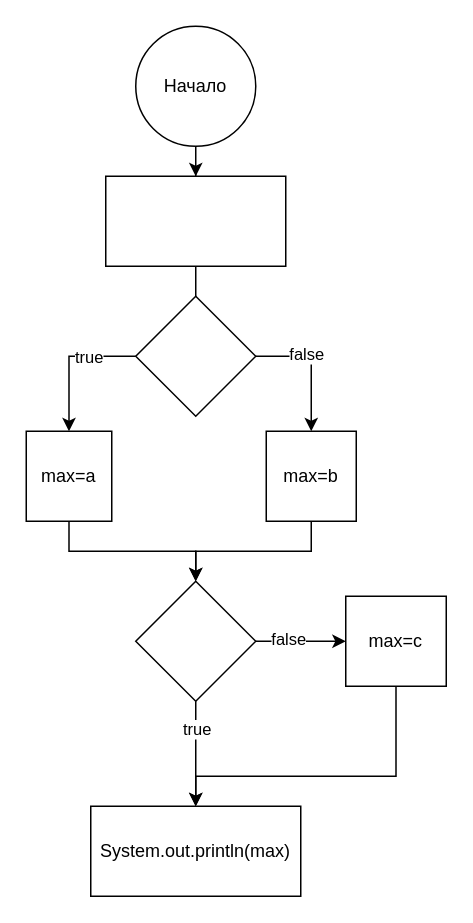
This 473x923 diagram has some shape labels left out. Each missing label, with the box of its shape:
If(a>b): (134, 295, 256, 416)
If(max>c): (134, 580, 256, 701)
int a,int b,int c, int max: (104, 175, 286, 266)
